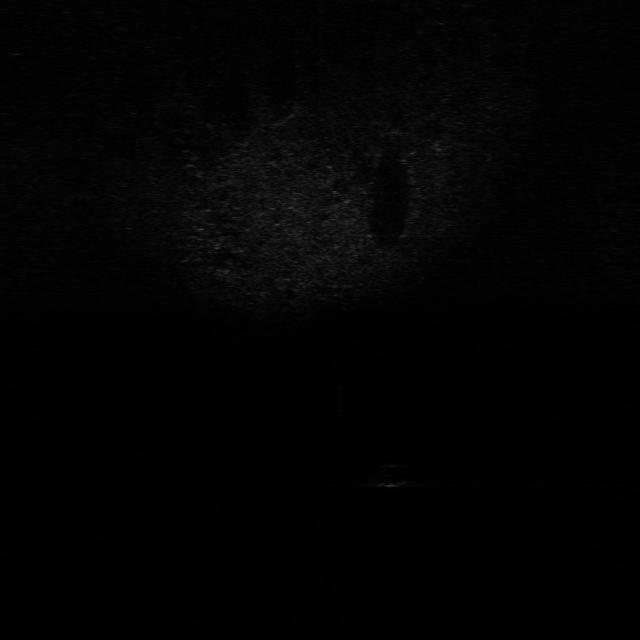ball: (368, 460, 412, 490)
